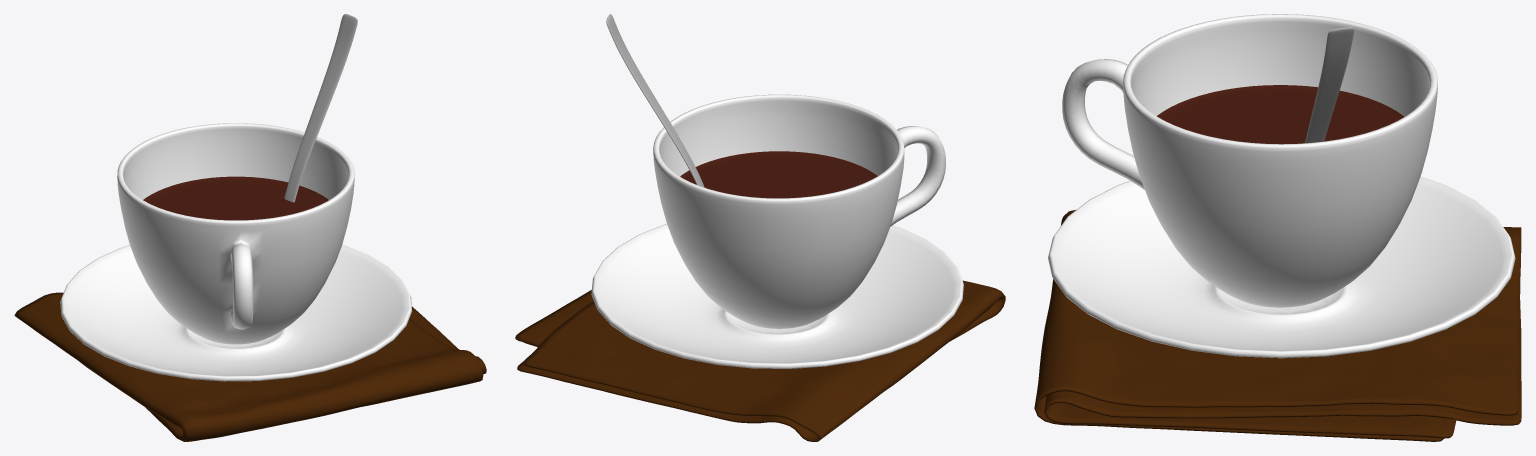
The model's file is tea cup.fbx.
The picture shows the model from 3 angles, left to right: view 1: azimuth 30°, elevation 25°; view 2: azimuth 150°, elevation 25°; view 3: azimuth 270°, elevation 25°; orthographic projection. The views are drawn at different scales.
Parts seen in each view (by area): view 1: Cylinder, Object, Plane, Liquid, Spoon; view 2: Cylinder, Object, Plane, Liquid, Spoon; view 3: Cylinder, Plane, Object, Liquid, Spoon.
Boxes of the visible parts, x1,y1,x2,y2 form: Cylinder: (117,123,354,344); Object: (60,244,412,381); Plane: (14,292,486,441); Liquid: (143,176,328,220); Spoon: (284,14,357,202); Cylinder: (653,94,945,328); Object: (591,224,963,368); Plane: (515,280,1005,441); Liquid: (680,151,877,198); Spoon: (606,14,704,187); Cylinder: (1062,14,1437,307); Plane: (1034,210,1521,441); Object: (1048,176,1515,358); Liquid: (1157,85,1404,144); Spoon: (1305,27,1354,143).
Bounding box in the file's own units: 27.5 × 22.56 × 25.84.
